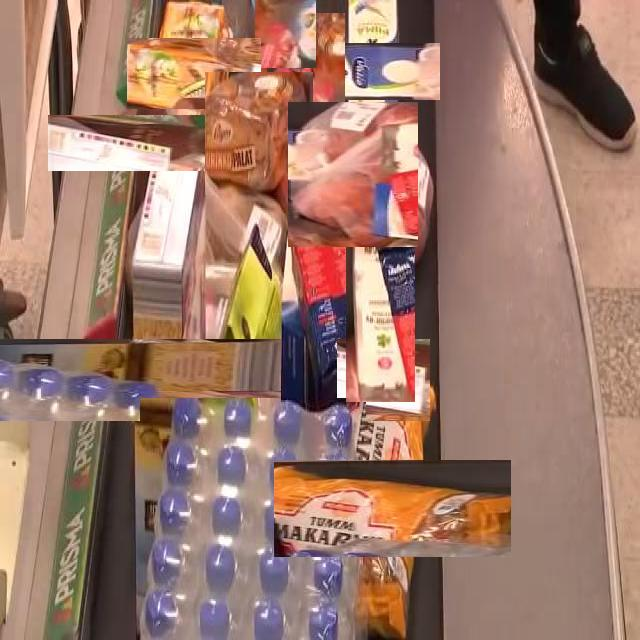beverage: (140, 398, 366, 640), (87, 75, 221, 211), (282, 173, 338, 403), (325, 23, 421, 119)
food-box: (21, 230, 321, 531), (309, 425, 476, 592), (346, 201, 416, 402), (205, 72, 314, 195), (142, 21, 246, 125), (266, 12, 345, 118), (250, 0, 319, 65)
vegetable: (284, 105, 422, 243)
